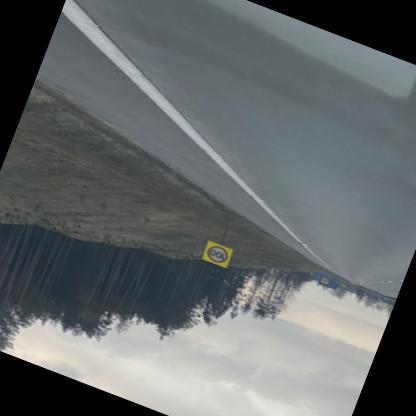speedlimit: (206, 246, 230, 266)
